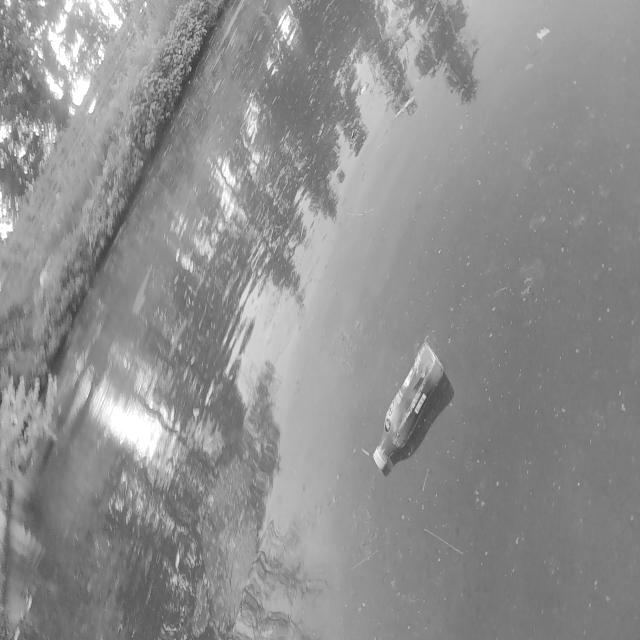bottle: (350, 299, 470, 487)
